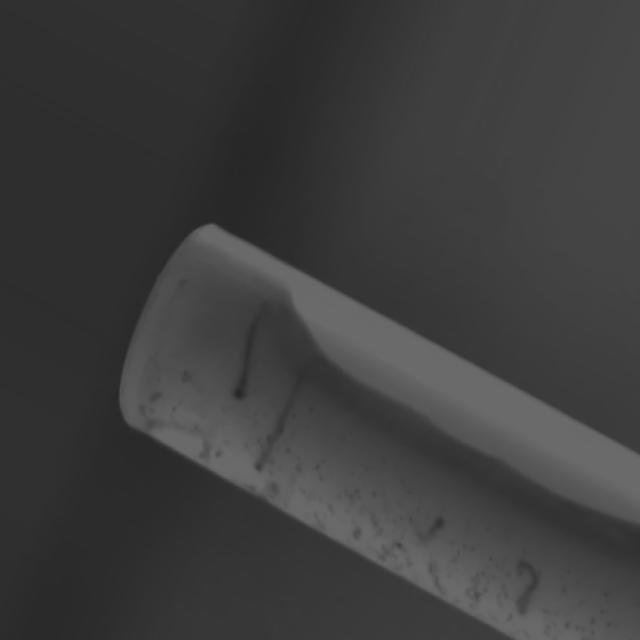larvas: (255, 372, 307, 470), (231, 298, 265, 401), (515, 556, 539, 616), (424, 515, 446, 549)
